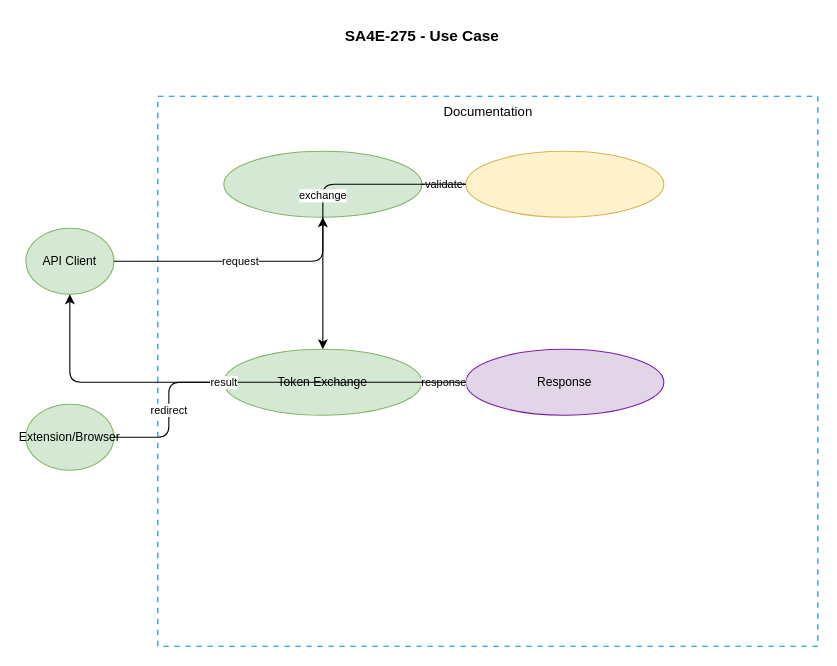
The diagram is 837 pixels wide and 666 high, and some of its shapes have lost their labels. Each missing label, with the centre of its shape:
"Documentation Flow" goes at (322,183).
"Validation / Auth" goes at (564,183).
